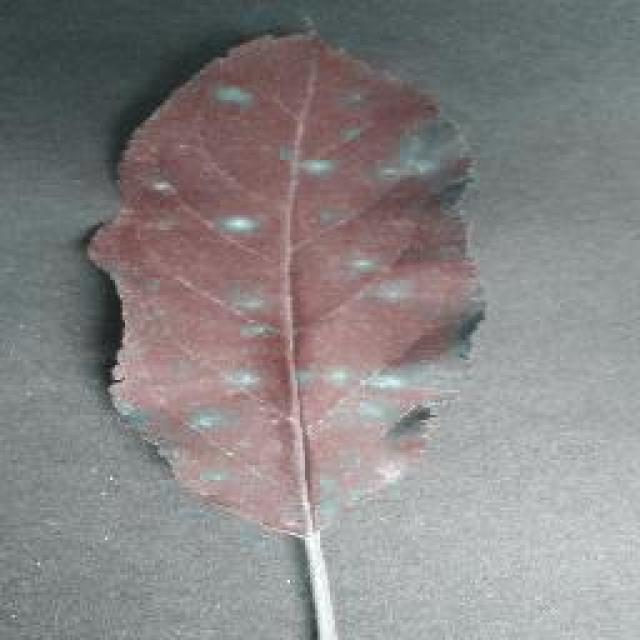apple scab disease: (82, 25, 488, 540)
